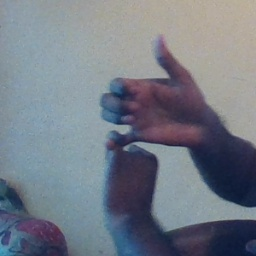S: (93, 33, 210, 204)
